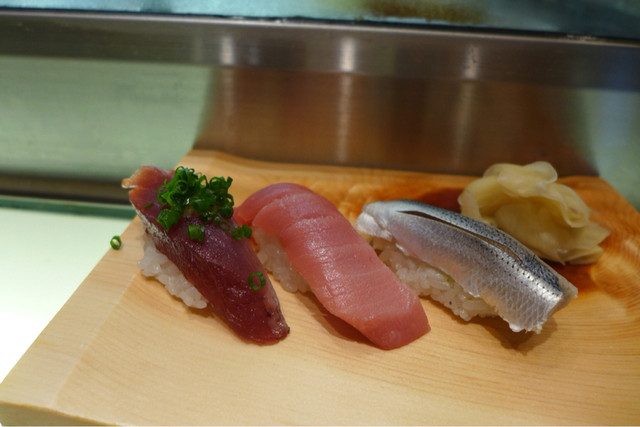medium_fatty_tuna: (233, 183, 427, 350)
